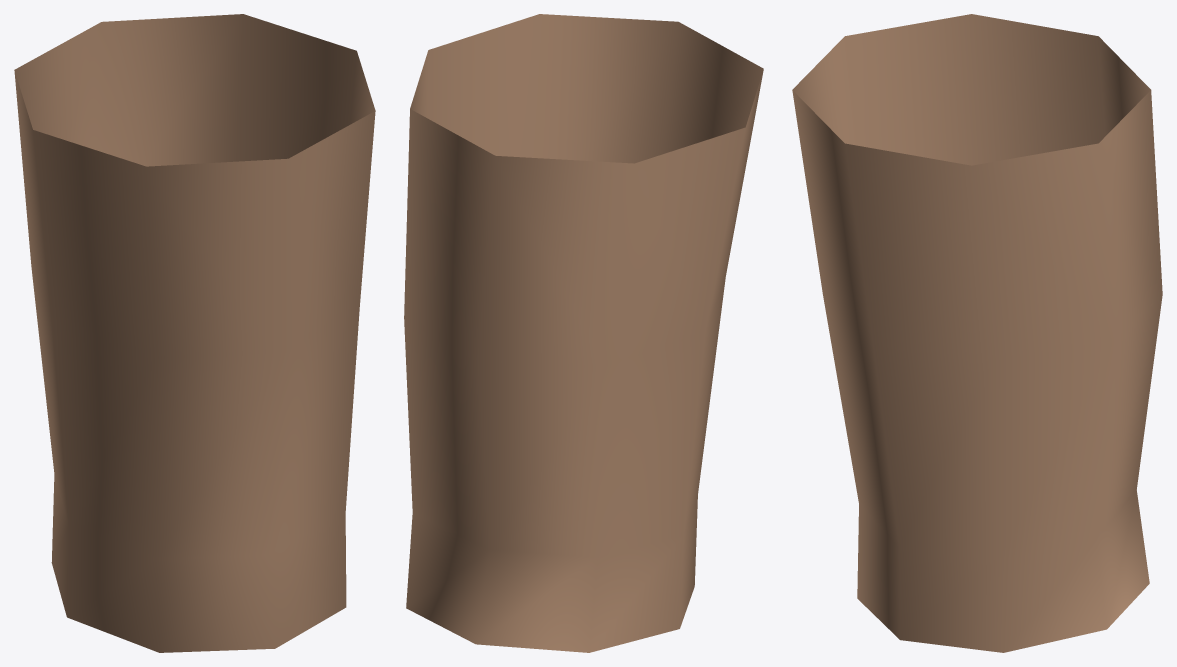
The model's file is rightupperfoot.obj.
The picture shows the model from 3 angles, left to right: view 1: azimuth 30°, elevation 25°; view 2: azimuth 150°, elevation 25°; view 3: azimuth 270°, elevation 25°; orthographic projection. The views are drawn at different scales.
Visible parts, largest first — view 1: polySurface2 _Cylinder002; view 2: polySurface2 _Cylinder002; view 3: polySurface2 _Cylinder002.
Boxes of the visible parts, x1,y1,x2,y2 form: polySurface2 _Cylinder002: [14, 14, 375, 652]; polySurface2 _Cylinder002: [404, 14, 763, 652]; polySurface2 _Cylinder002: [792, 14, 1162, 652].
Size of the model in its own units: 4.13 by 6.33 by 4.26.
